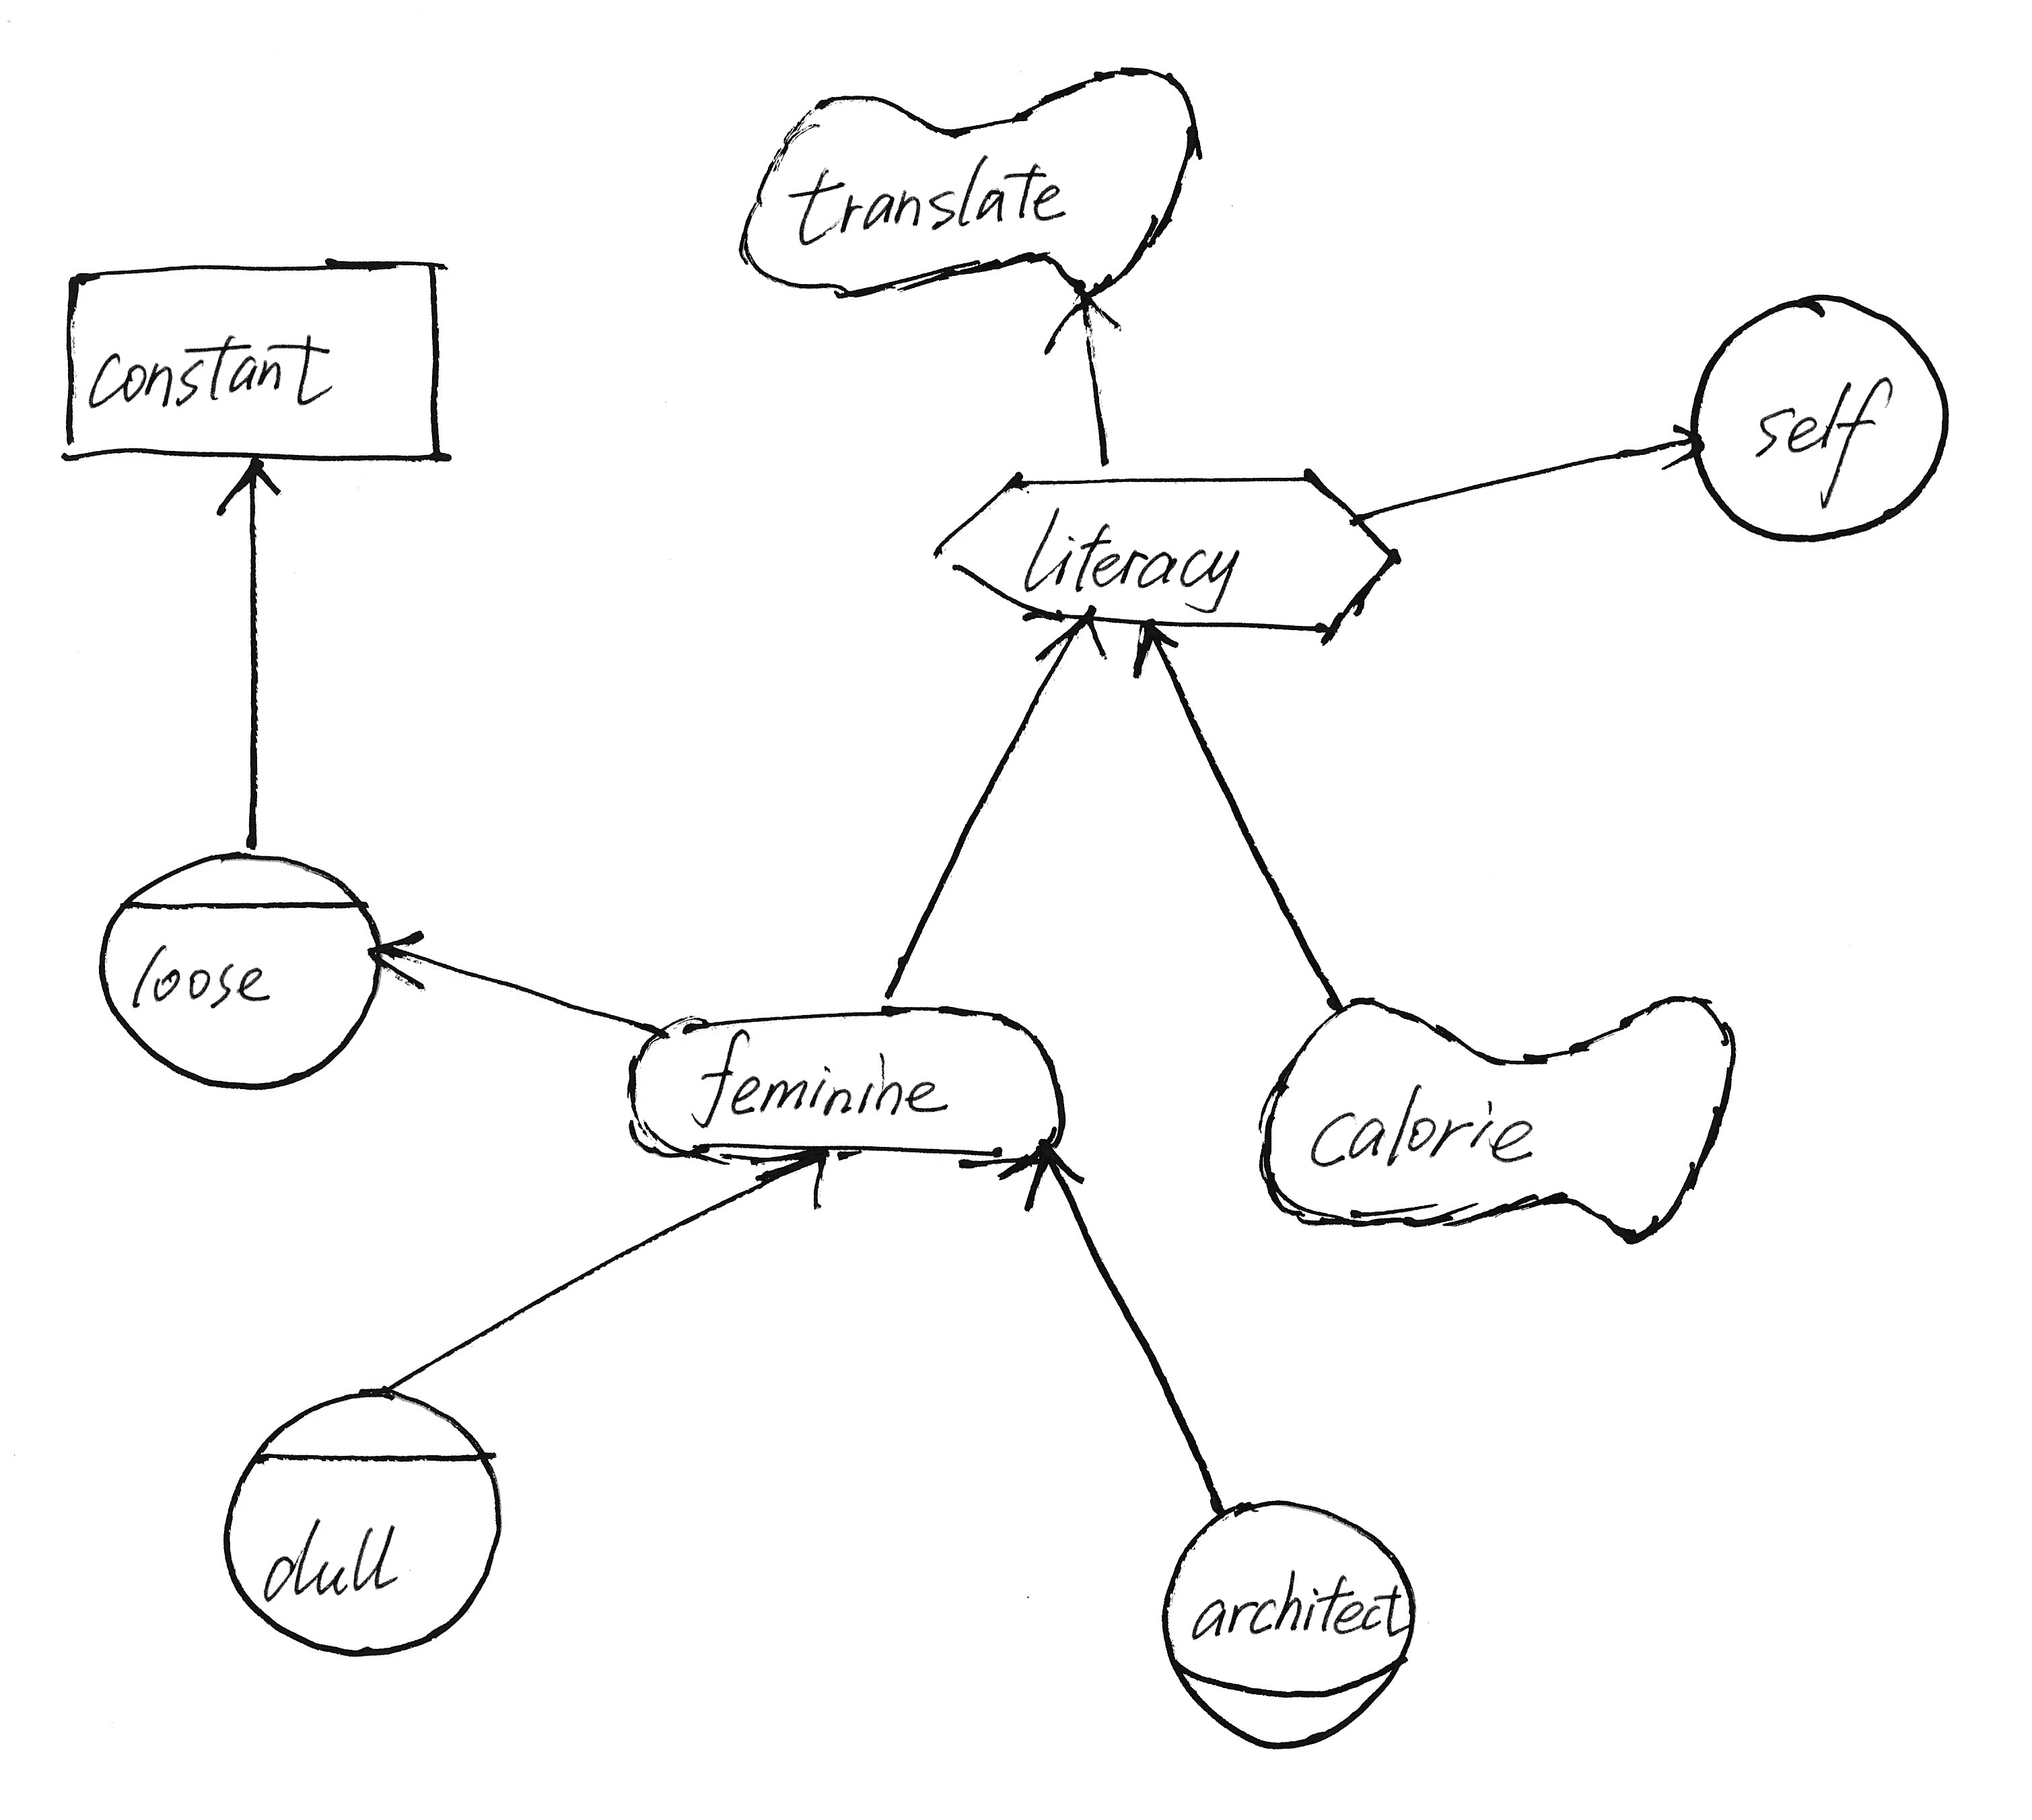actor: (1670, 279, 1967, 559)
agent: (205, 1370, 522, 1667), (77, 833, 400, 1103)
arrow: (999, 1128, 1098, 1212), (1029, 279, 1129, 362), (1027, 596, 1115, 685), (750, 1133, 839, 1216), (205, 441, 292, 518), (355, 926, 439, 1003), (1120, 613, 1189, 683), (1653, 409, 1716, 480)
goal: (611, 991, 1089, 1184)
quality: (1240, 980, 1758, 1253), (722, 49, 1217, 309)
resource: (40, 241, 471, 480)
role: (1142, 1479, 1433, 1757)
task: (919, 457, 1421, 664)
